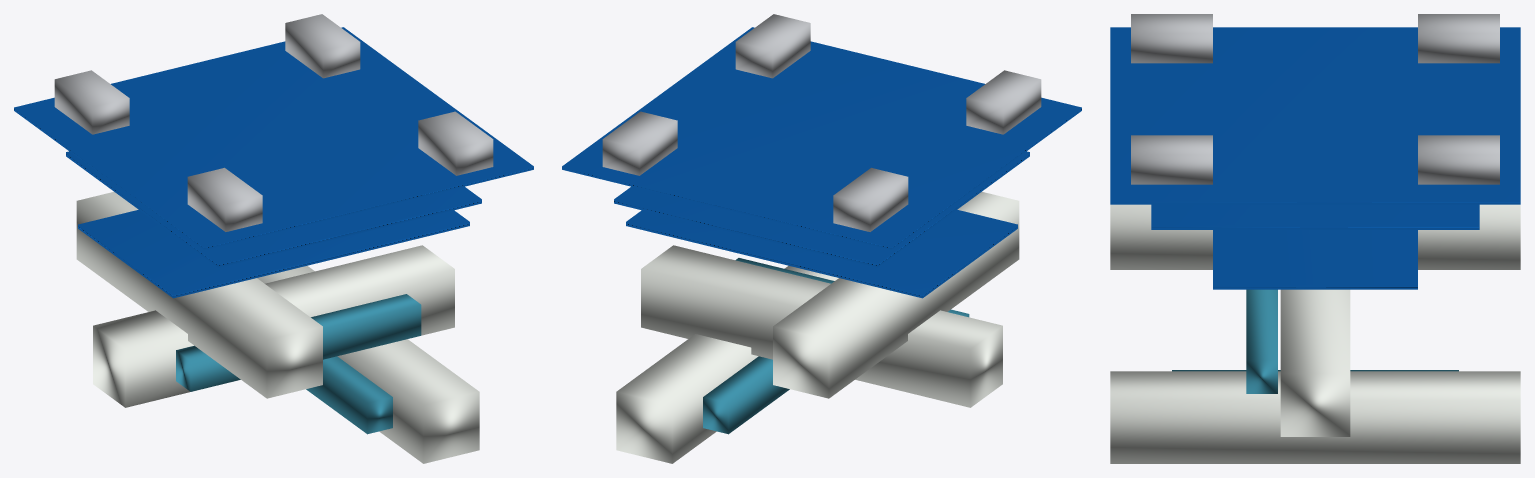
3 views of the same model, side by side, from view 1: azimuth 30°, elevation 25°; view 2: azimuth 150°, elevation 25°; view 3: azimuth 270°, elevation 25° (orthographic). The views are drawn at different scales.
Parts seen in each view (by area): view 1: transit_surface_lod2, transit_tubes_lod2, transit_concourse_lod2; view 2: transit_surface_lod2, transit_tubes_lod2, transit_concourse_lod2; view 3: transit_surface_lod2, transit_tubes_lod2, transit_concourse_lod2.
Boxes of the visible parts, left/top/right/bottom form: transit_surface_lod2: left=14, top=14, right=533, bottom=249; transit_tubes_lod2: left=76, top=192, right=479, bottom=463; transit_concourse_lod2: left=66, top=151, right=481, bottom=298; transit_surface_lod2: left=562, top=14, right=1081, bottom=249; transit_tubes_lod2: left=616, top=192, right=1019, bottom=463; transit_concourse_lod2: left=614, top=151, right=1029, bottom=298; transit_surface_lod2: left=1110, top=14, right=1520, bottom=204; transit_tubes_lod2: left=1110, top=204, right=1520, bottom=463; transit_concourse_lod2: left=1151, top=204, right=1479, bottom=289.
Bounding box in the file's own units: 40 × 34.6 × 40.
2 materials, 2 textured.
